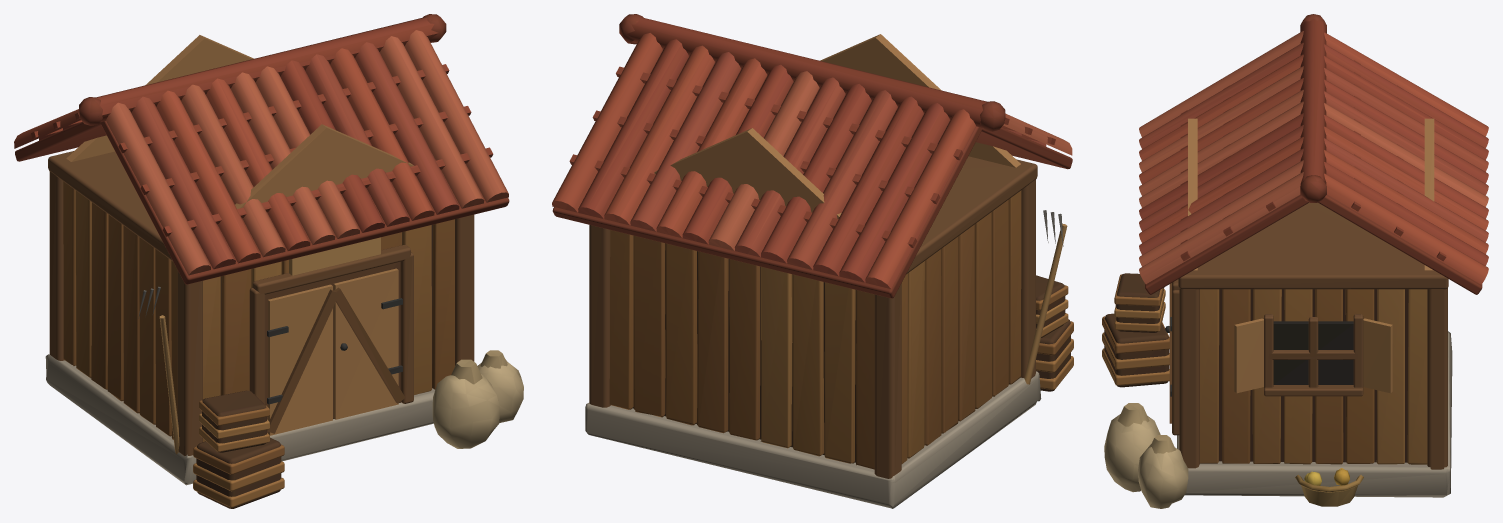
Rendered from g3d-barn.glb.
The picture shows the model from 3 angles, left to right: view 1: azimuth 30°, elevation 25°; view 2: azimuth 150°, elevation 25°; view 3: azimuth 270°, elevation 25°; orthographic projection. The views are drawn at different scales.
Visible parts, largest first — view 1: barn-kit; view 2: barn-kit; view 3: barn-kit.
Part boxes in pixels (x1=…): barn-kit: x1=14, y1=14, x2=523, y2=508; barn-kit: x1=552, y1=14, x2=1073, y2=508; barn-kit: x1=1102, y1=14, x2=1488, y2=508.
Bounding box in the file's own units: 2.55 × 2.35 × 2.42.
